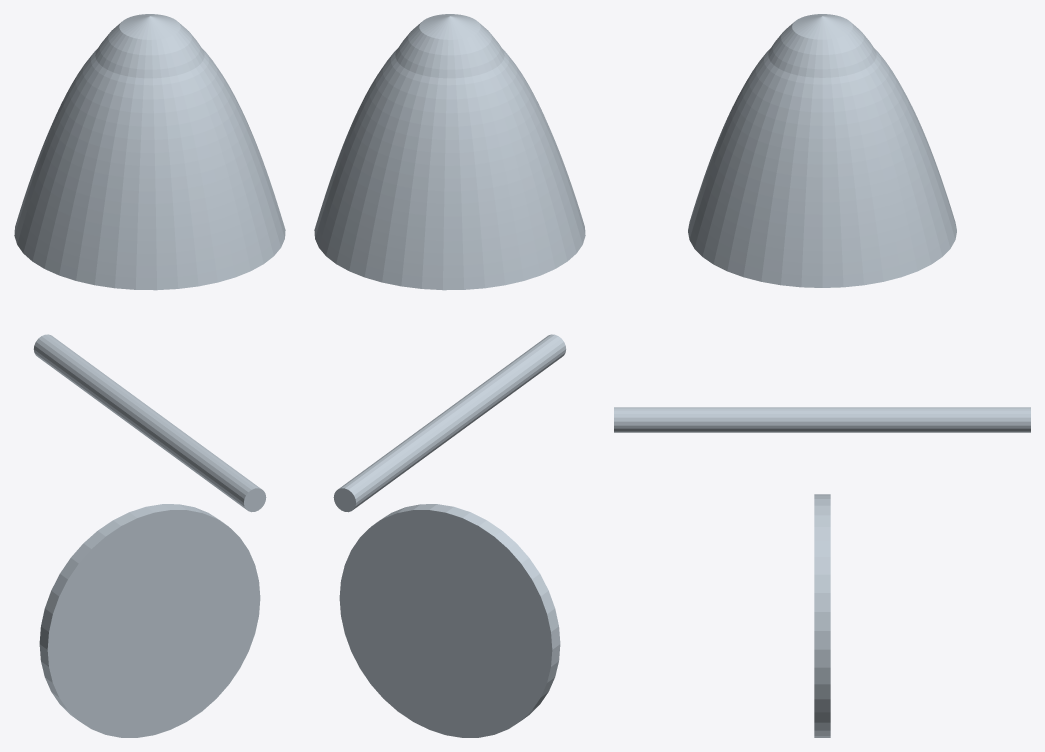
File: 1789180025617_White_Wine_Glass_glb.glb
3 views of the same model, side by side, from view 1: azimuth 30°, elevation 25°; view 2: azimuth 150°, elevation 25°; view 3: azimuth 270°, elevation 25° (orthographic).
Parts seen in each view (by area): view 1: world; view 2: world; view 3: world.
Boxes of the visible parts, x1=… form: world: x1=14, y1=14, x2=285, y2=737; world: x1=314, y1=14, x2=585, y2=737; world: x1=614, y1=14, x2=1030, y2=737.
Bounding box in the file's own units: 0.084 × 0.2445 × 0.13.
